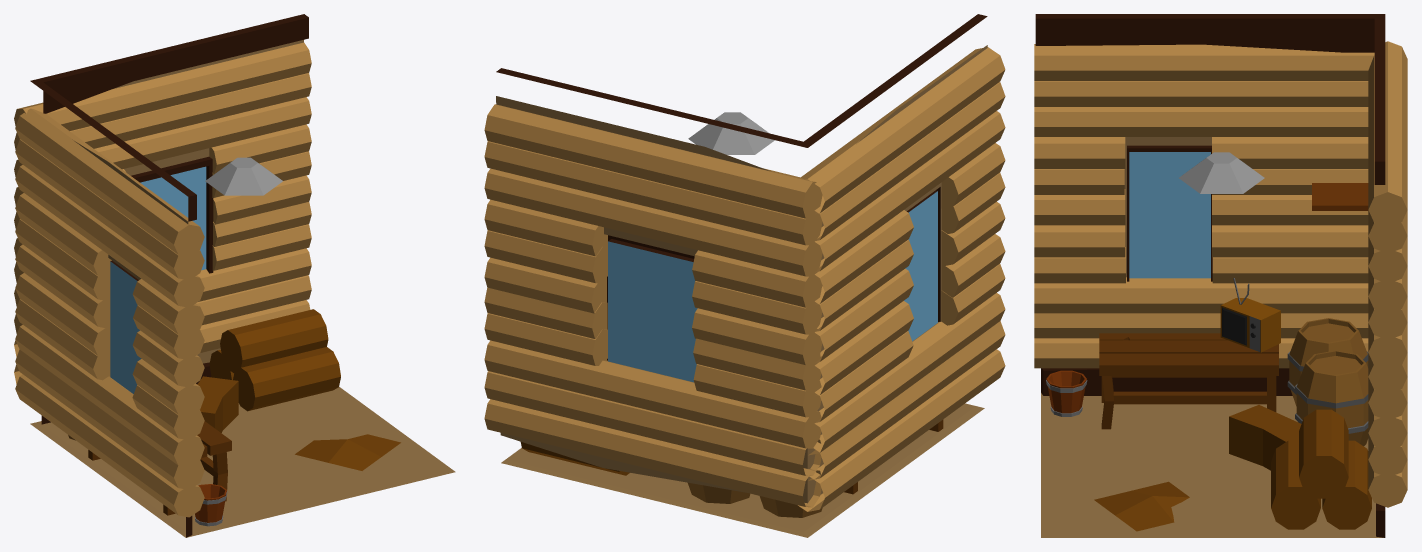
The model's file is Room_LowPoly2.fbx.
3 views of the same model, side by side, from view 1: azimuth 30°, elevation 25°; view 2: azimuth 150°, elevation 25°; view 3: azimuth 270°, elevation 25° (orthographic). The views are drawn at different scales.
Parts seen in each view (by area): view 1: Cylinder, Room, Hay_2, Hay_1, Plane, Lamp, Cube, Table, Wedro; view 2: Cylinder, Room, Lamp, Barell, Barell.001; view 3: Cylinder, Room, Table, Barell, Hay_1, Cube, Hay_2, Barell.001, TV, Plane, Hay, Lamp (+2 smaller).
Boxes of the visible parts, x1,y1,x2,y2 form: Cylinder: (14, 42, 311, 517); Room: (30, 14, 455, 537); Hay_2: (233, 347, 340, 411); Hay_1: (220, 309, 328, 373); Plane: (295, 434, 400, 470); Lamp: (205, 157, 282, 195); Cube: (197, 376, 238, 432); Table: (88, 421, 231, 515); Wedro: (195, 484, 227, 526); Cylinder: (484, 47, 1005, 511); Room: (496, 14, 987, 537); Lamp: (688, 112, 774, 154); Barell: (688, 482, 750, 503); Barell.001: (759, 496, 822, 517); Cylinder: (1034, 41, 1407, 507); Room: (1035, 14, 1385, 537); Table: (1099, 333, 1278, 429); Barell: (1295, 350, 1368, 446); Hay_1: (1299, 409, 1348, 498); Cube: (1229, 405, 1301, 470); Hay_2: (1271, 440, 1320, 529); Barell.001: (1287, 318, 1368, 406); TV: (1220, 278, 1280, 352); Plane: (1094, 481, 1189, 531); Hay: (1322, 440, 1371, 529); Lamp: (1179, 152, 1264, 193).
Size of the model in its own units: 853 by 968 by 864.
